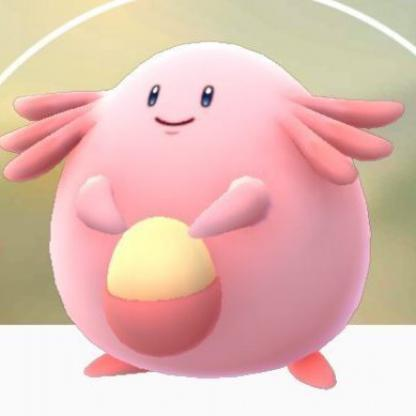Chansey: (15, 44, 406, 399)
